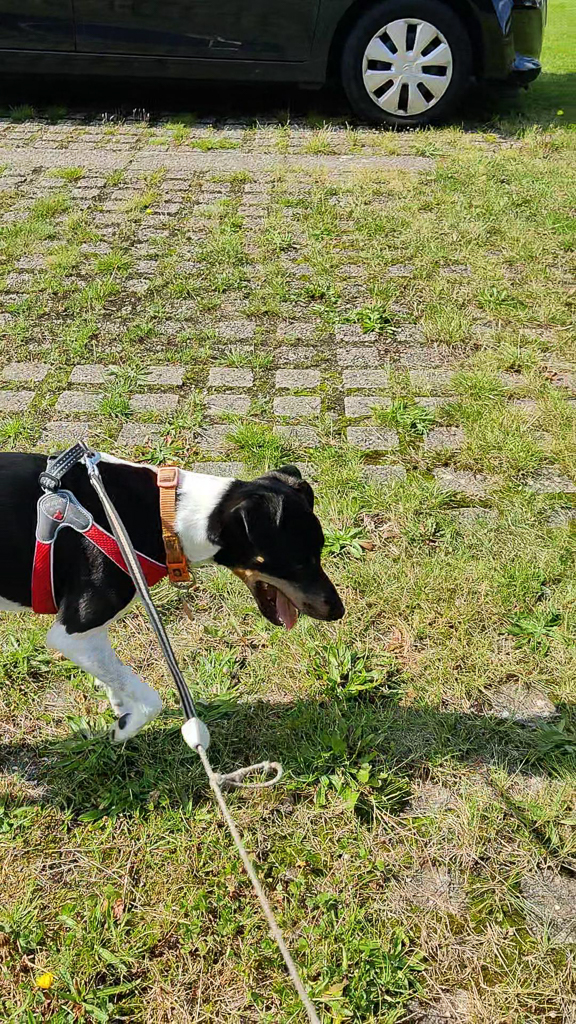Dog: (0, 399, 375, 770)
